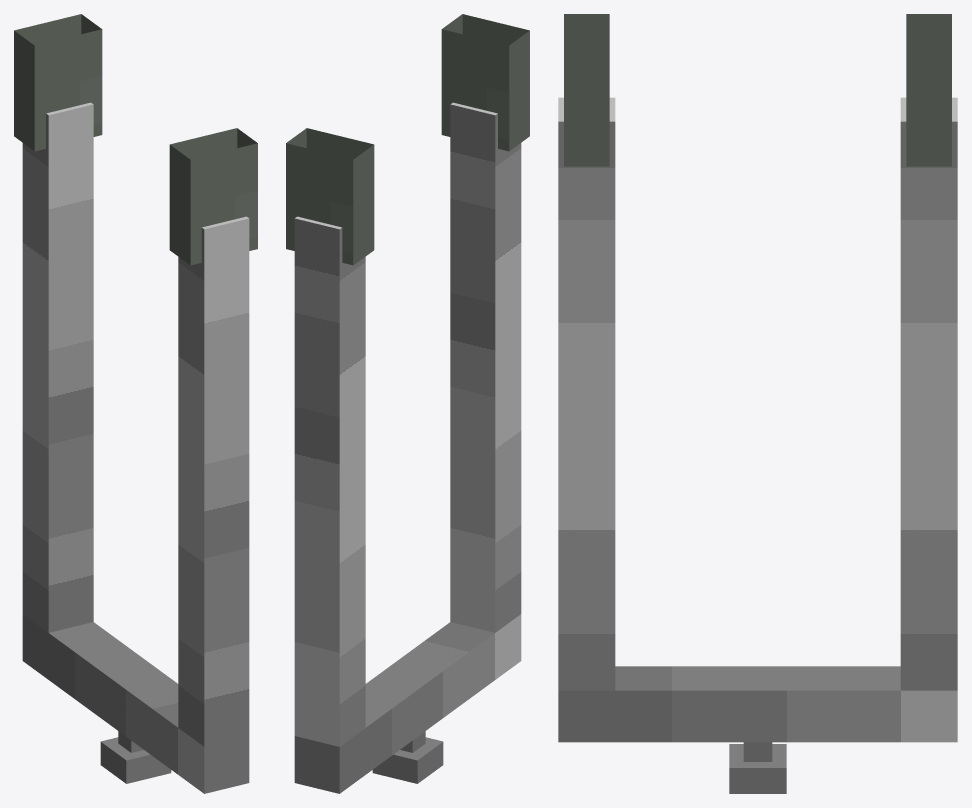
File: u_insulator.obj
The picture shows the model from 3 angles, left to right: view 1: azimuth 30°, elevation 25°; view 2: azimuth 150°, elevation 25°; view 3: azimuth 270°, elevation 25°; orthographic projection. The views are drawn at different scales.
Visible parts, largest first — view 1: i_2, i_1, wire_connection20, bracket_connection2, bracket_connection1, wire_connection10; view 2: i_1, i_2, wire_connection20, bracket_connection2, bracket_connection1, wire_connection10; view 3: i_1, i_2, wire_connection20, bracket_connection2, bracket_connection1, wire_connection10.
Part boxes in pixels (bbox=[...]): i_2: bbox=[178, 216, 249, 746]; i_1: bbox=[22, 102, 93, 632]; wire_connection20: bbox=[22, 614, 249, 793]; bracket_connection2: bbox=[14, 14, 102, 151]; bracket_connection1: bbox=[169, 128, 257, 265]; wire_connection10: bbox=[100, 737, 171, 783]; i_1: bbox=[294, 216, 365, 746]; i_2: bbox=[450, 102, 521, 632]; wire_connection20: bbox=[294, 614, 521, 793]; bracket_connection2: bbox=[286, 128, 374, 265]; bracket_connection1: bbox=[441, 14, 529, 151]; wire_connection10: bbox=[372, 737, 443, 783]; i_1: bbox=[900, 97, 957, 690]; i_2: bbox=[558, 97, 615, 690]; wire_connection20: bbox=[558, 666, 957, 742]; bracket_connection2: bbox=[906, 14, 951, 166]; bracket_connection1: bbox=[564, 14, 609, 166]; wire_connection10: bbox=[729, 744, 786, 793].
Bounding box in the file's own units: 0.0938 × 0.9062 × 0.4375.
